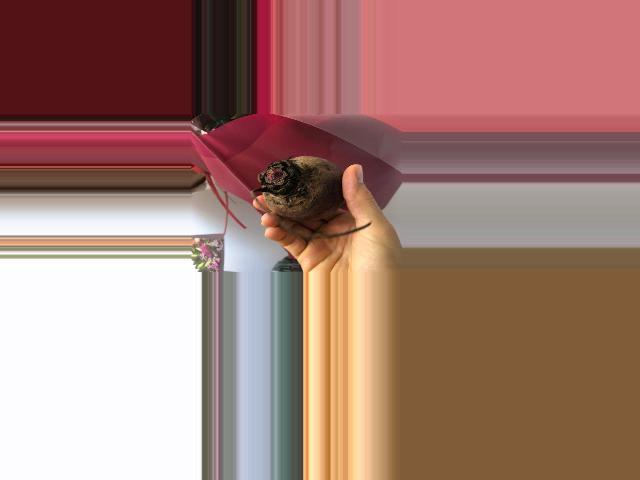beet: (249, 156, 371, 238)
